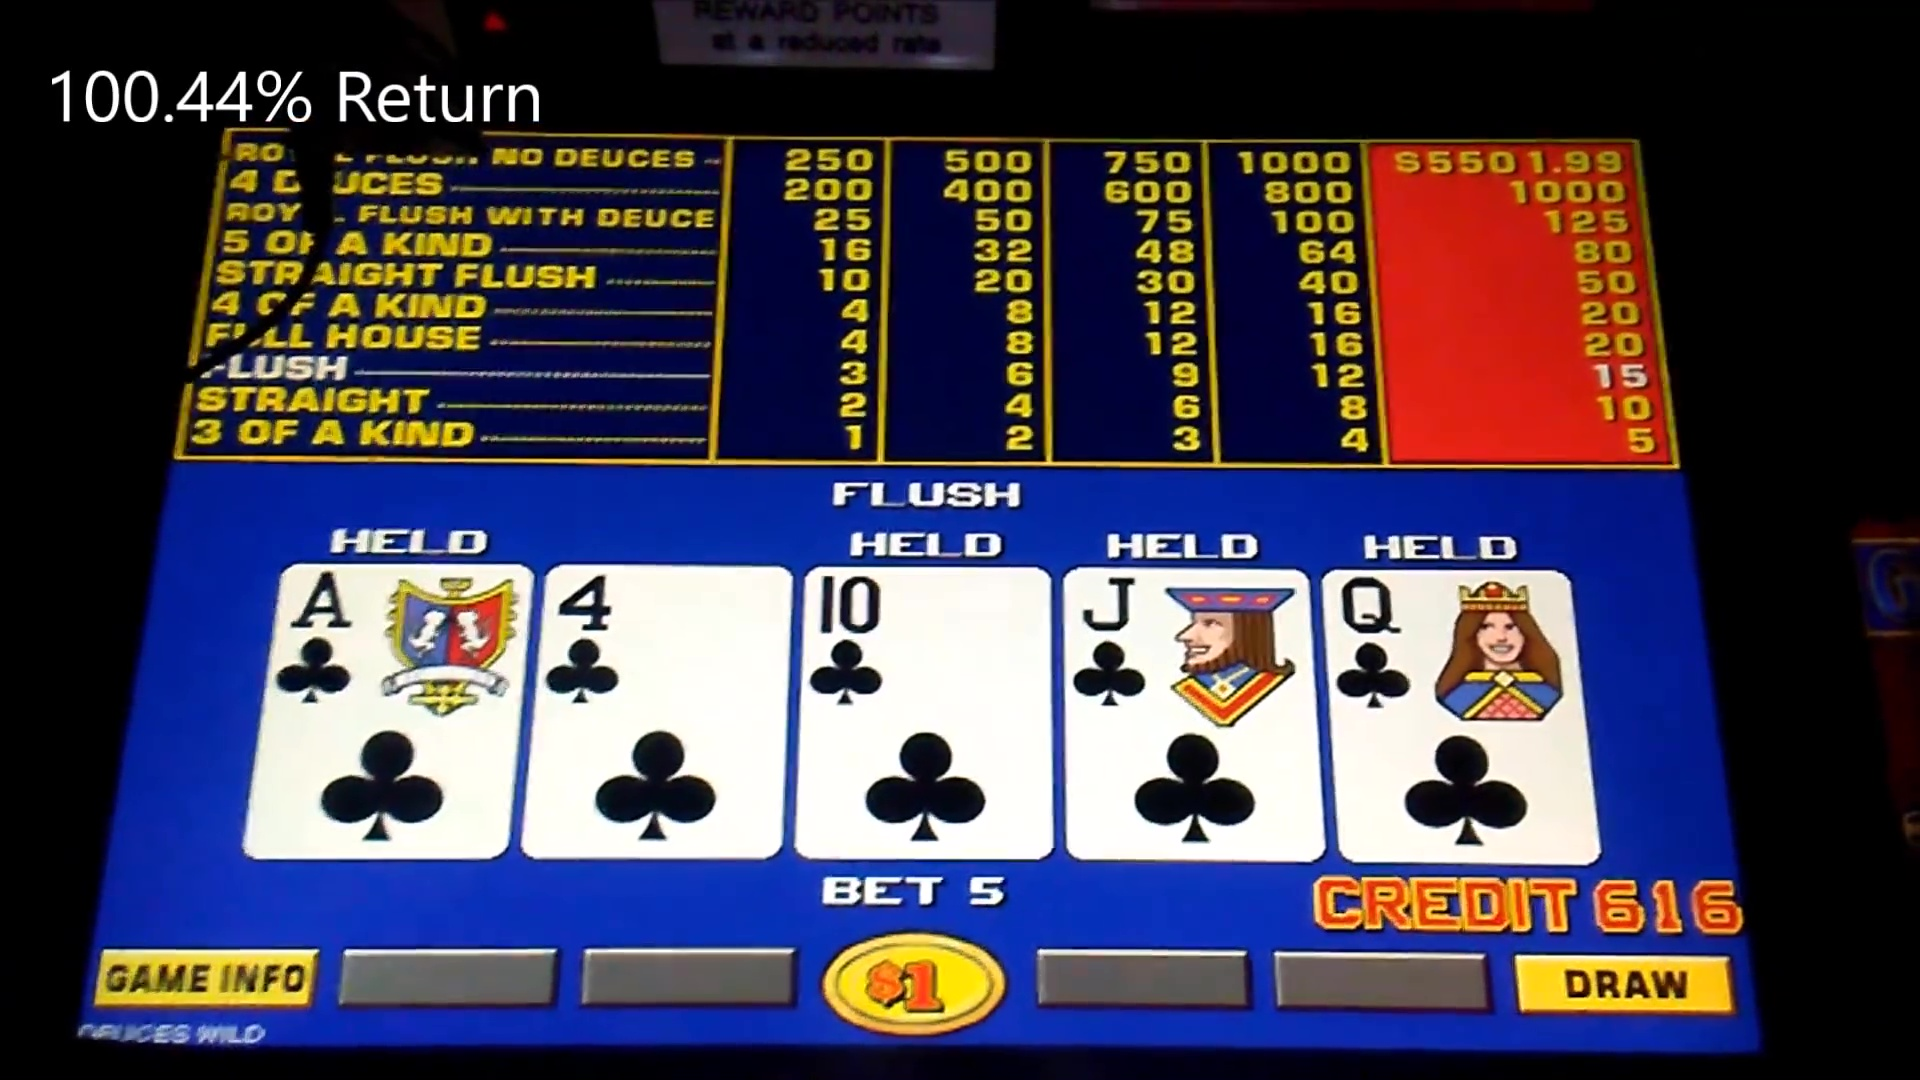4C: (543, 567, 789, 713)
AC: (281, 564, 514, 709)
JC: (1062, 570, 1309, 717)
QC: (1327, 574, 1573, 723)
TC: (799, 572, 1054, 715)
